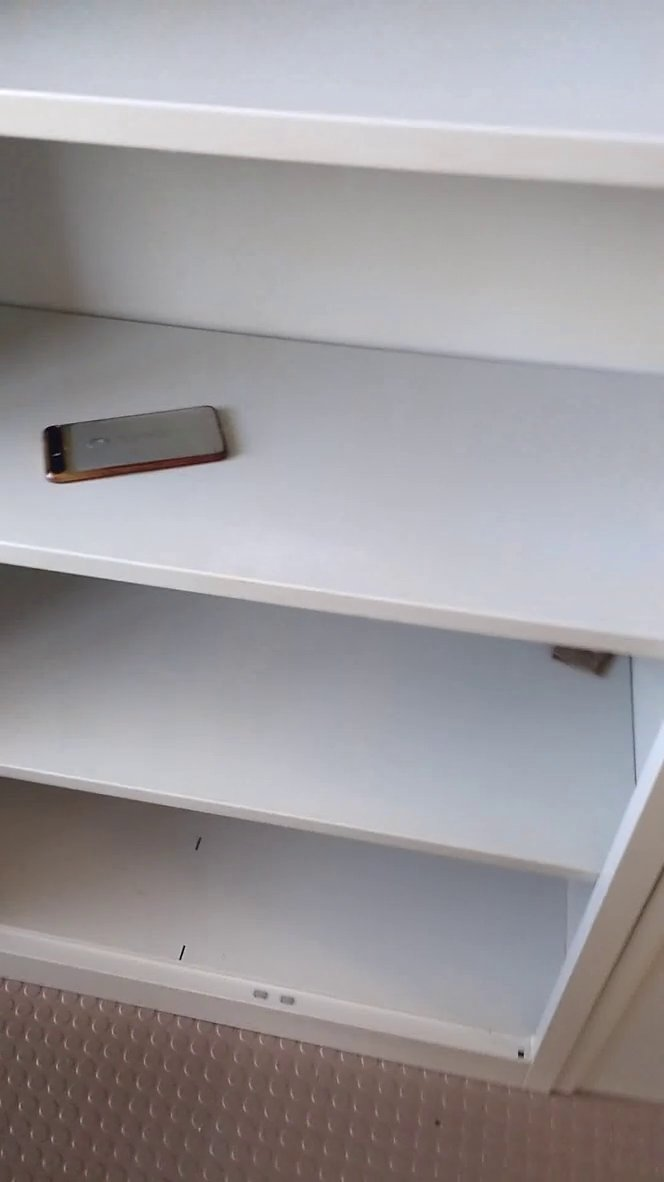phone: (35, 398, 241, 500)
